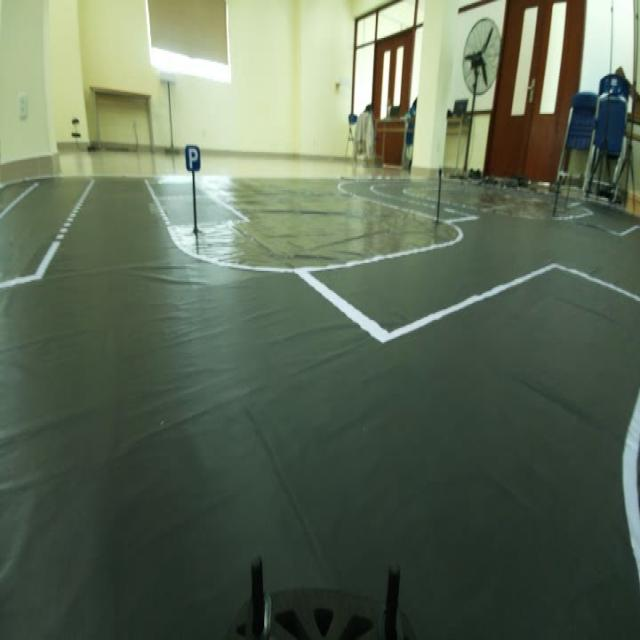parking: (185, 139, 202, 173)
